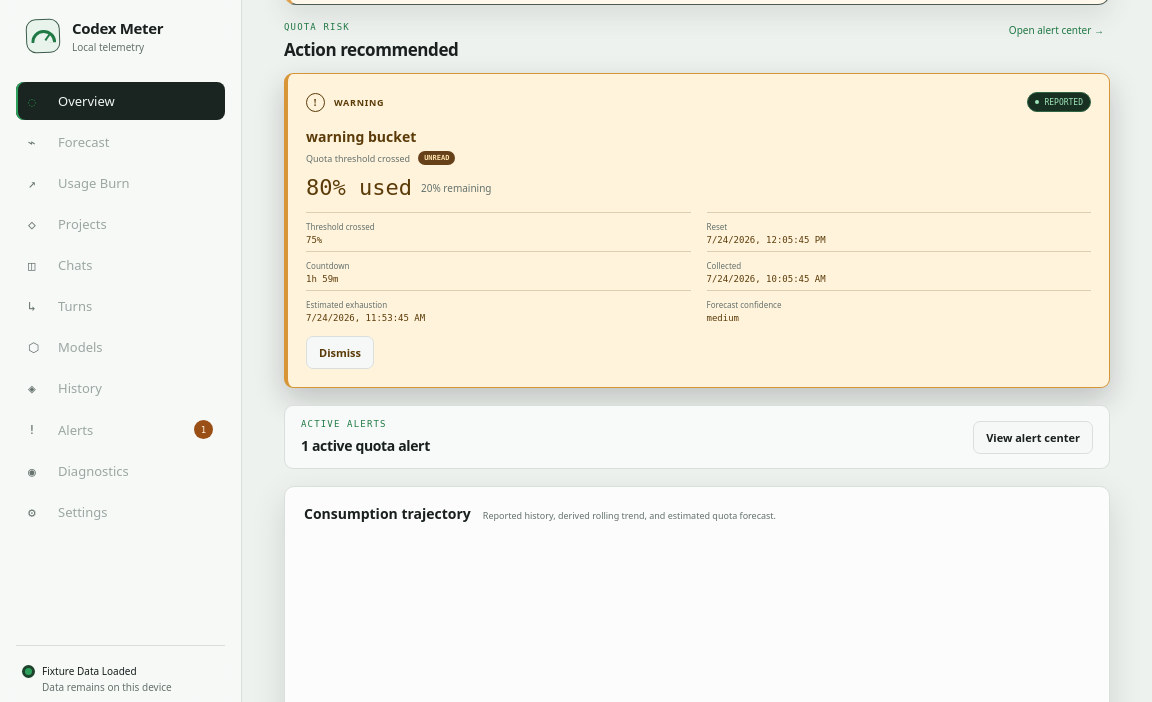
Test case: telemetry-state overview › dismisses a live alert while retaining the history contract
(page scrolled)
Click the button with aria-label "Dismiss Warning alert for warning bucket" at (340, 353), box x1=306 y1=336 x2=374 y2=370
(page scrolled)
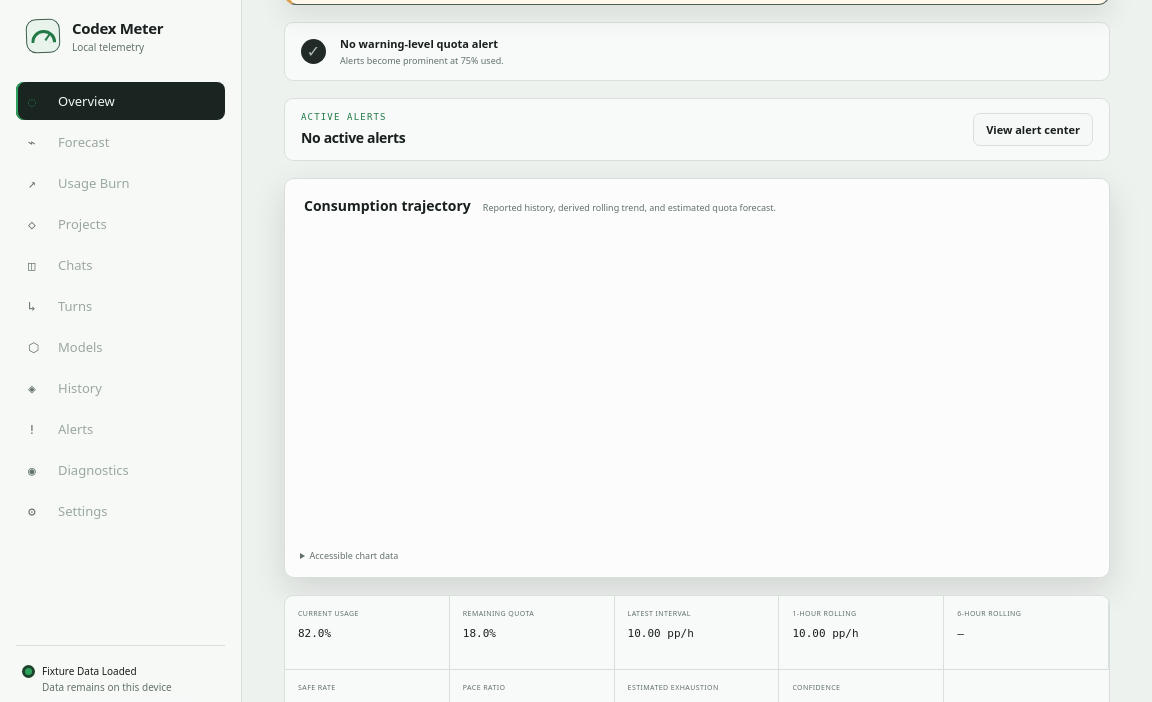
Click the button "! Alerts" at (120, 429), box x1=16 y1=410 x2=225 y2=448
(page scrolled)
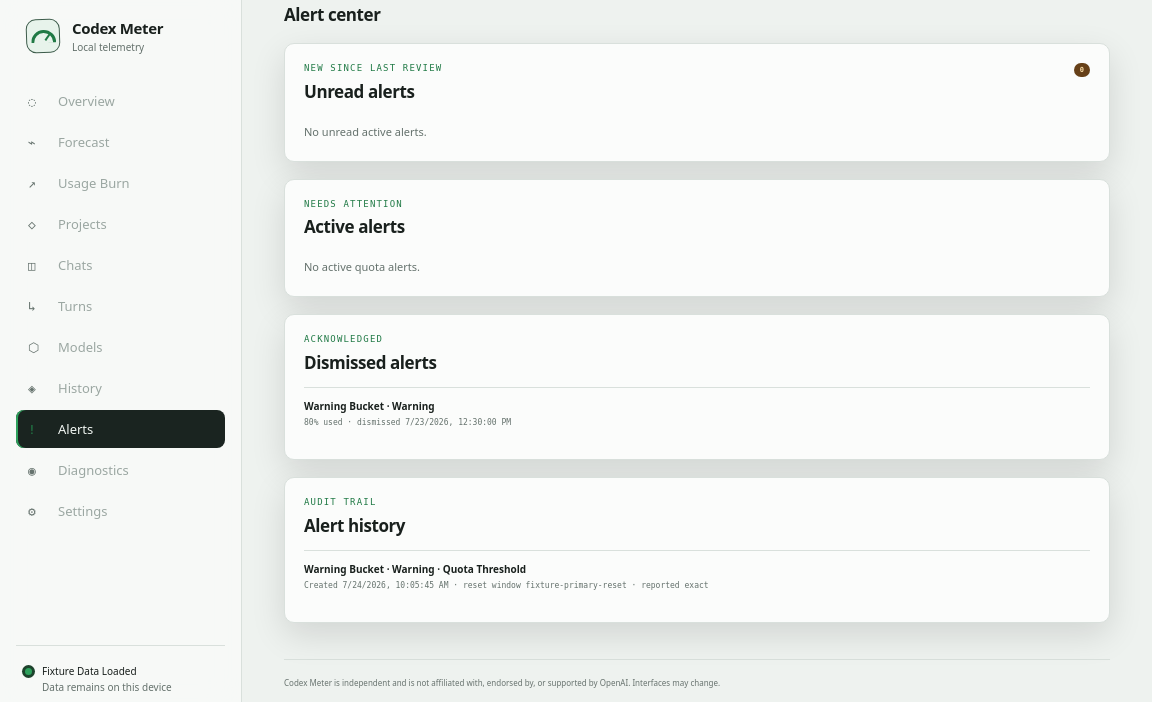
Expected: the text "warning bucket · warning" is shown, x1=304 y1=399 x2=435 y2=413
